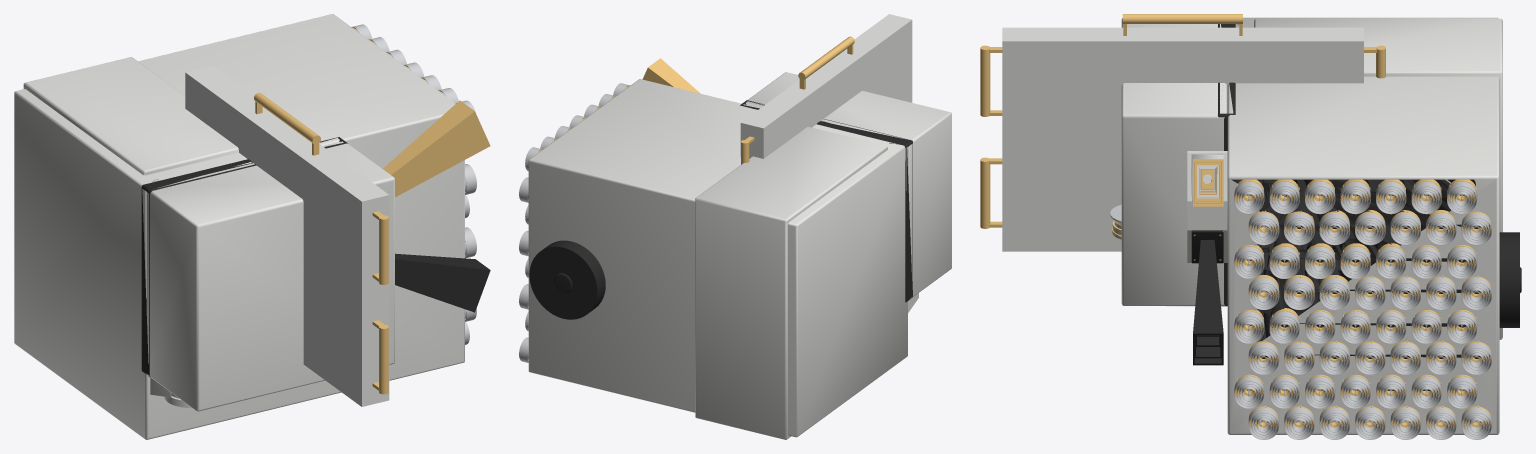
Rendered from nicer-sextant.glb.
3 renders of one model, left to right at view 1: azimuth 30°, elevation 25°; view 2: azimuth 150°, elevation 25°; view 3: azimuth 270°, elevation 25°, orthographic. The views are drawn at different scales.
Parts seen in each view (by area): view 1: Layer_1, Layer_4, Layer_0; view 2: Layer_1, Layer_4, Layer_0; view 3: Layer_1, Layer_0, Layer_4.
Boxes of the visible parts, x1,y1,x2,y2 form: Layer_1: (14, 14, 490, 439); Layer_4: (141, 137, 490, 377); Layer_0: (351, 24, 476, 344); Layer_1: (528, 14, 951, 439); Layer_4: (529, 100, 912, 319); Layer_0: (519, 83, 630, 362); Layer_1: (980, 14, 1502, 434); Layer_0: (1110, 181, 1491, 439); Layer_4: (1191, 24, 1521, 421).
Size of the model in its own units: 1.16 by 1.05 by 1.59.
